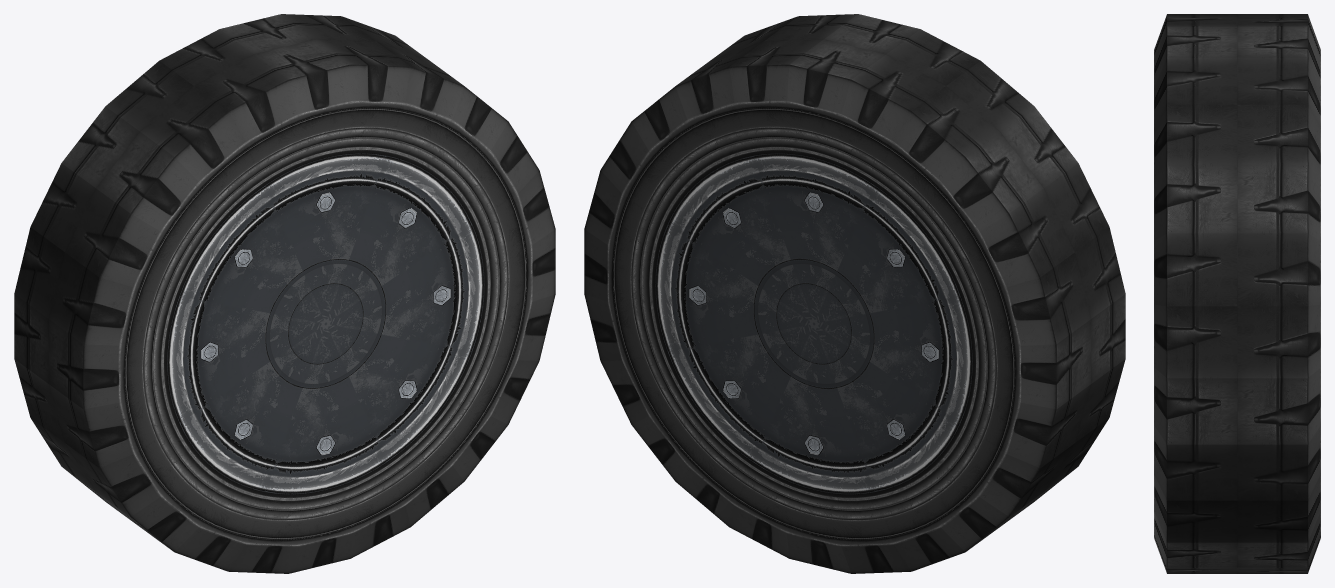
The model's file is fred_wheel.dae.
3 views of the same model, side by side, from view 1: azimuth 30°, elevation 25°; view 2: azimuth 150°, elevation 25°; view 3: azimuth 270°, elevation 25° (orthographic).
Visible parts, largest first — view 1: node; view 2: node; view 3: node.
Part boxes in pixels (x1,y1,x2,y2): node: (14, 14, 555, 573); node: (584, 14, 1125, 573); node: (1154, 14, 1320, 573).
Bounding box in the file's own units: 0.254 × 0.254 × 0.0762.
Materials: 1 (1 with a texture image).
